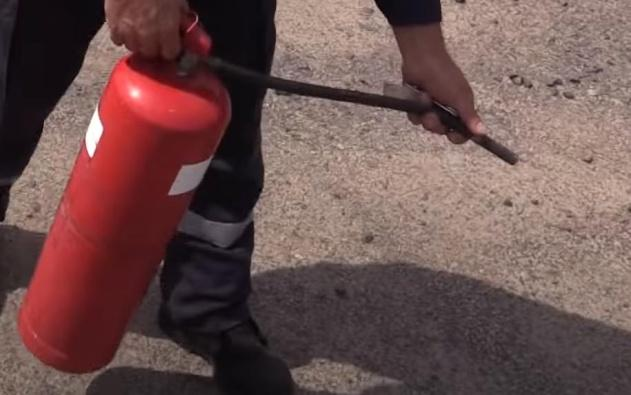APAR: (14, 11, 232, 372)
